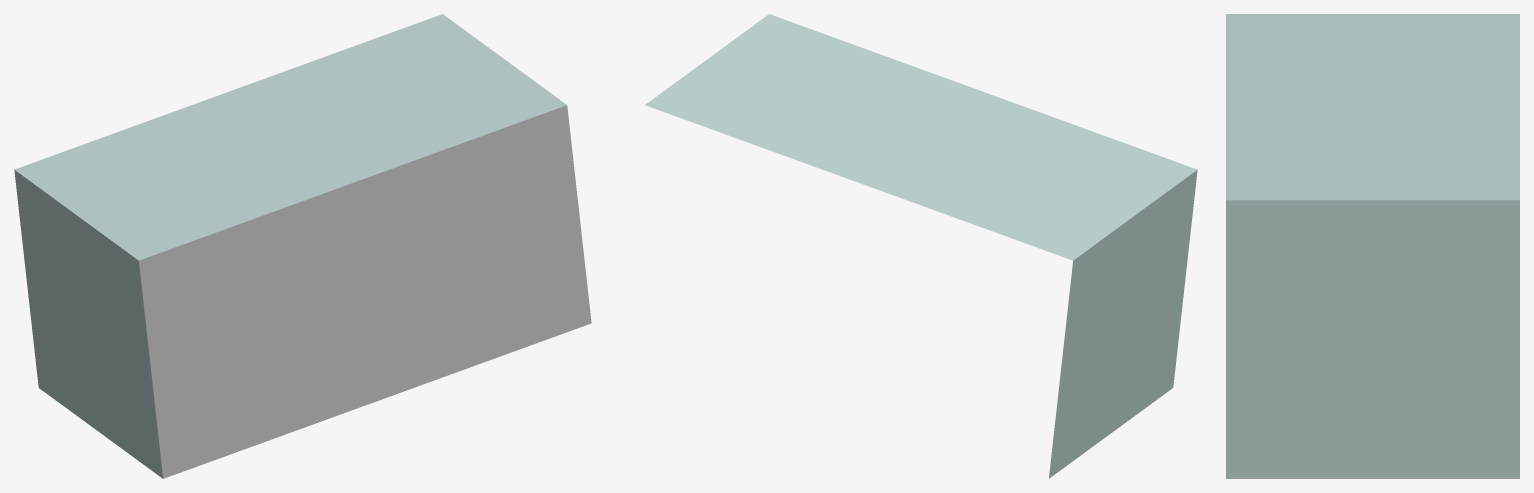
3 renders of one model, left to right at view 1: azimuth 30°, elevation 25°; view 2: azimuth 150°, elevation 25°; view 3: azimuth 270°, elevation 25°, orthographic. The views are drawn at different scales.
Visible parts, largest first — view 1: 0_2_1_2_0_0_0_1_1; view 2: 0_2_1_2_0_0_0_1_1; view 3: 0_2_1_2_0_0_0_1_1.
Part boxes in pixels (x1=…): 0_2_1_2_0_0_0_1_1: x1=14, y1=14, x2=591, y2=478; 0_2_1_2_0_0_0_1_1: x1=645, y1=14, x2=1197, y2=478; 0_2_1_2_0_0_0_1_1: x1=1226, y1=14, x2=1519, y2=478.
Bounding box in the file's own units: 6.3 × 3.66 × 3.
